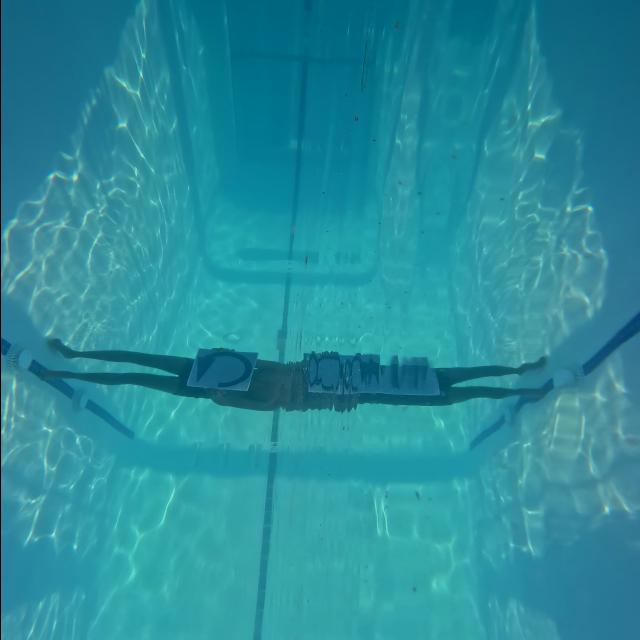blue_side: (185, 346, 267, 394)
